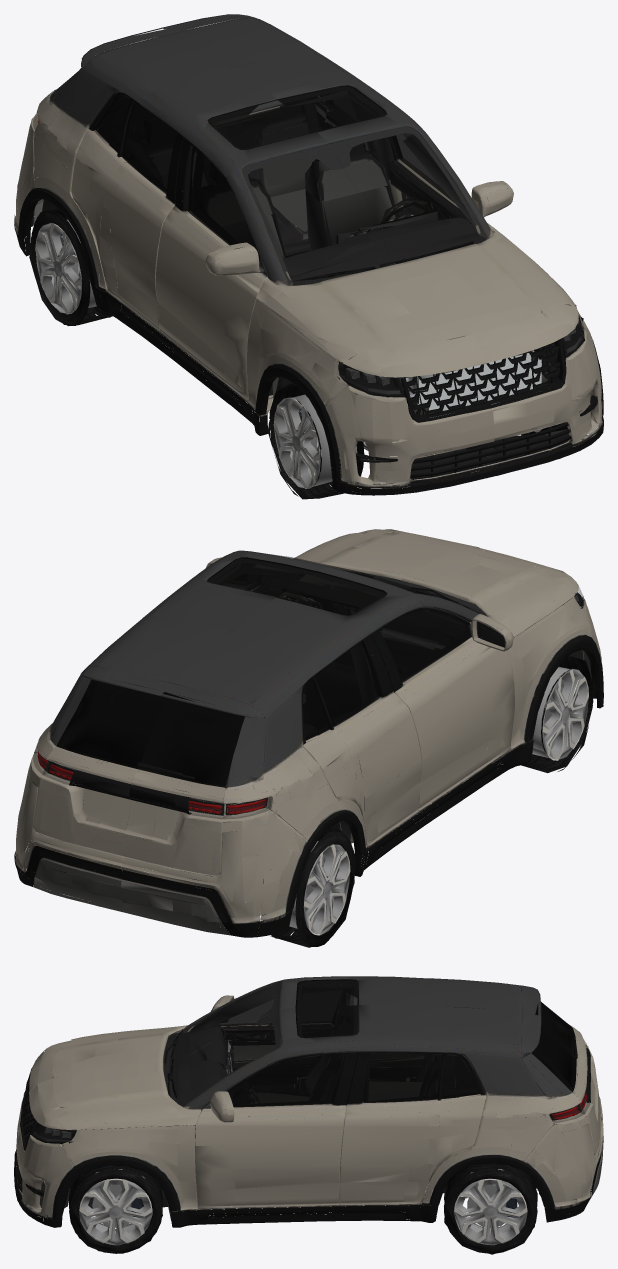
Rendered from suv.glb.
3 renders of one model, top to bottom at view 1: azimuth 30°, elevation 25°; view 2: azimuth 150°, elevation 25°; view 3: azimuth 270°, elevation 25°, orthographic. The views are drawn at different scales.
Visible parts, largest first — view 1: roof, door.R, cockpit, glass.front, nose.R, nose.L, quarter.R, fender.R, glass.rear, wheel.rear.R, wheel.front.R, chassis (+3 smaller); view 2: roof, door.R, tail.R, glass.rear, tail.L, cockpit, quarter.R, wheel.rear.R, wheel.front.R, fender.R, deck, nose.R (+3 smaller); view 3: door.L, roof, cockpit, tail.L, glass.front, wheel.rear.L, wheel.front.L, nose.L, quarter.L, glass.rear, fender.L, door.R (+3 smaller).
Part boxes in pixels (<box>): roof: <box>55,14,575,363</box>; door.R: <box>49,69,294,435</box>; cockpit: <box>33,62,485,398</box>; glass.front: <box>242,127,487,285</box>; nose.R: <box>323,335,496,495</box>; nose.L: <box>465,302,603,475</box>; quarter.R: <box>26,124,111,288</box>; fender.R: <box>255,307,354,428</box>; glass.rear: <box>57,70,387,149</box>; wheel.rear.R: <box>29,205,121,326</box>; wheel.front.R: <box>268,383,368,499</box>; chassis: <box>42,200,591,484</box>; roof: <box>50,533,575,803</box>; door.R: <box>266,599,533,876</box>; tail.R: <box>121,726,302,937</box>; glass.rear: <box>53,557,387,790</box>; tail.L: <box>14,688,136,913</box>; cockpit: <box>36,563,467,833</box>; quarter.R: <box>269,740,366,875</box>; wheel.rear.R: <box>261,816,366,947</box>; wheel.front.R: <box>517,651,594,773</box>; fender.R: <box>516,594,596,742</box>; deck: <box>68,662,337,818</box>; nose.R: <box>473,547,603,708</box>; door.L: <box>171,1047,535,1227</box>; roof: <box>52,976,577,1129</box>; cockpit: <box>169,984,577,1202</box>; tail.L: <box>530,1057,603,1222</box>; glass.front: <box>164,982,283,1105</box>; wheel.rear.L: <box>430,1163,537,1254</box>; wheel.front.L: <box>69,1165,162,1253</box>; nose.L: <box>14,1078,72,1227</box>; quarter.L: <box>429,1110,542,1220</box>; glass.rear: <box>295,979,577,1093</box>; fender.L: <box>62,1123,177,1211</box>; door.R: <box>177,980,423,1087</box>.
Size of the model in its own units: 2.24 by 1.79 by 4.81.
16 materials, 6 textured.
